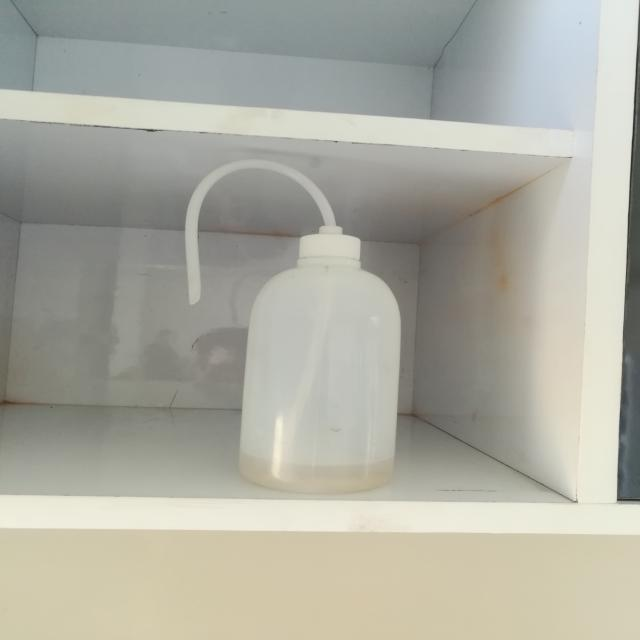Wash_Bottle: (157, 126, 430, 514)
